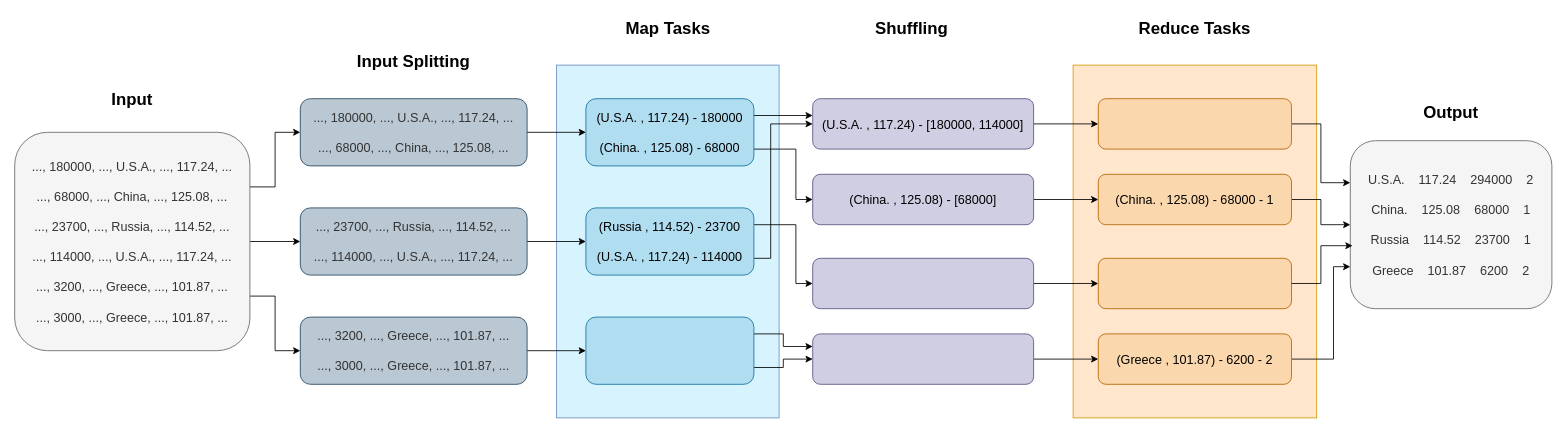
This 1567x433 diagram has some shape labels left out. Each missing label, with the centre of its shape:
"(Greece , 101.87) - 3200 (Greece , 101.87) - 3000" goes at point 669,350.
"(Greece , 101.87) - [3200, 3000]" goes at point 923,358.
"(Russia , 114.52) - 23700 - 1" goes at point 1194,283.
"(Russia , 114.52) - [23700]" goes at point 923,283.
"(U.S.A. , 117.24) - 294000 - 2" goes at point 1194,123.
